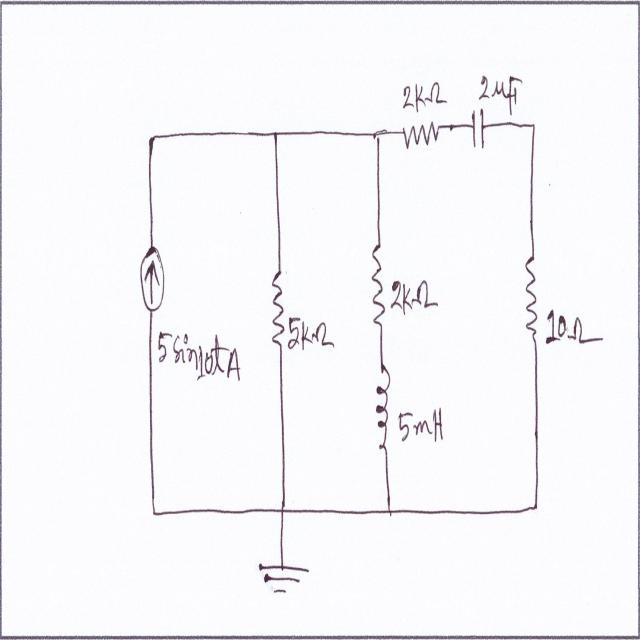capacitor: (468, 102, 489, 154)
current_source: (132, 243, 166, 316)
ground: (256, 555, 312, 603)
inductor: (370, 363, 395, 456)
resistor: (368, 237, 388, 330), (266, 268, 288, 352), (402, 114, 440, 159), (523, 255, 542, 340)
